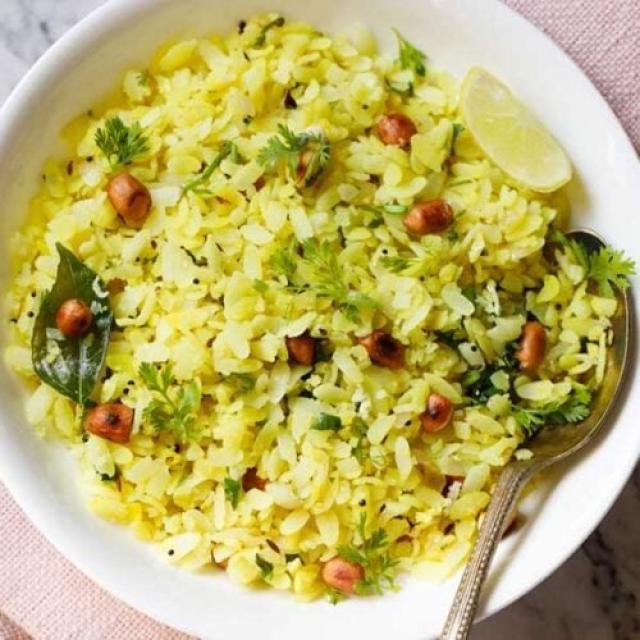POHA: (1, 9, 618, 602)
